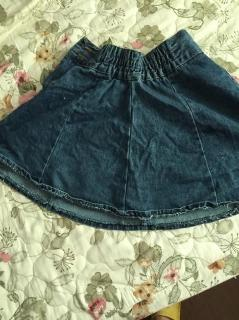skirt: (0, 28, 239, 231)
